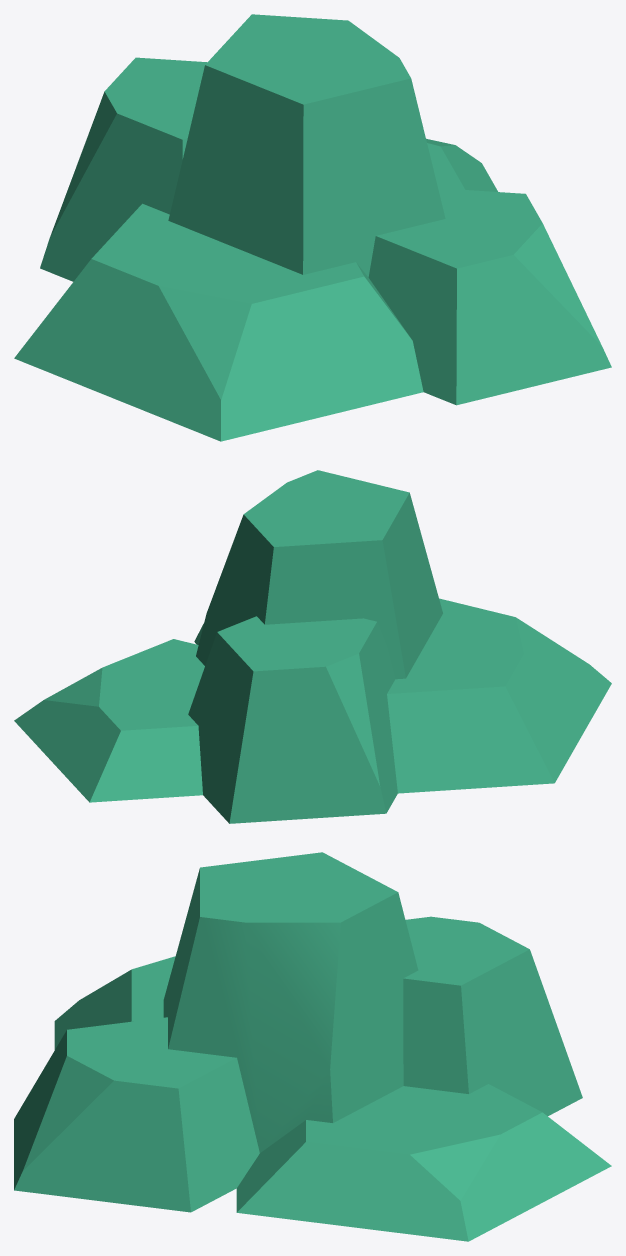
File: d_kenney_rocaille_grande.glb
3 views of the same model, one above another, from view 1: azimuth 30°, elevation 25°; view 2: azimuth 150°, elevation 25°; view 3: azimuth 270°, elevation 25° (orthographic). The views are drawn at different scales.
Visible parts, largest first — view 1: d_kenney_rocaille_grande; view 2: d_kenney_rocaille_grande; view 3: d_kenney_rocaille_grande.
Part boxes in pixels (box(x1,y1,x2,y2)): d_kenney_rocaille_grande: box(14, 14, 611, 441); d_kenney_rocaille_grande: box(14, 470, 611, 823); d_kenney_rocaille_grande: box(14, 852, 611, 1241).
Bounding box in the file's own units: 1 × 0.4186 × 1.
1 material, 1 textured.
